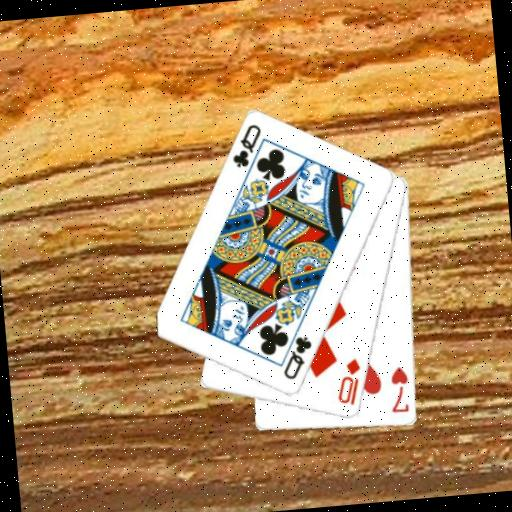10D: (332, 356, 366, 409)
7H: (386, 363, 413, 416)
QC: (278, 333, 317, 383), (227, 121, 266, 171)
